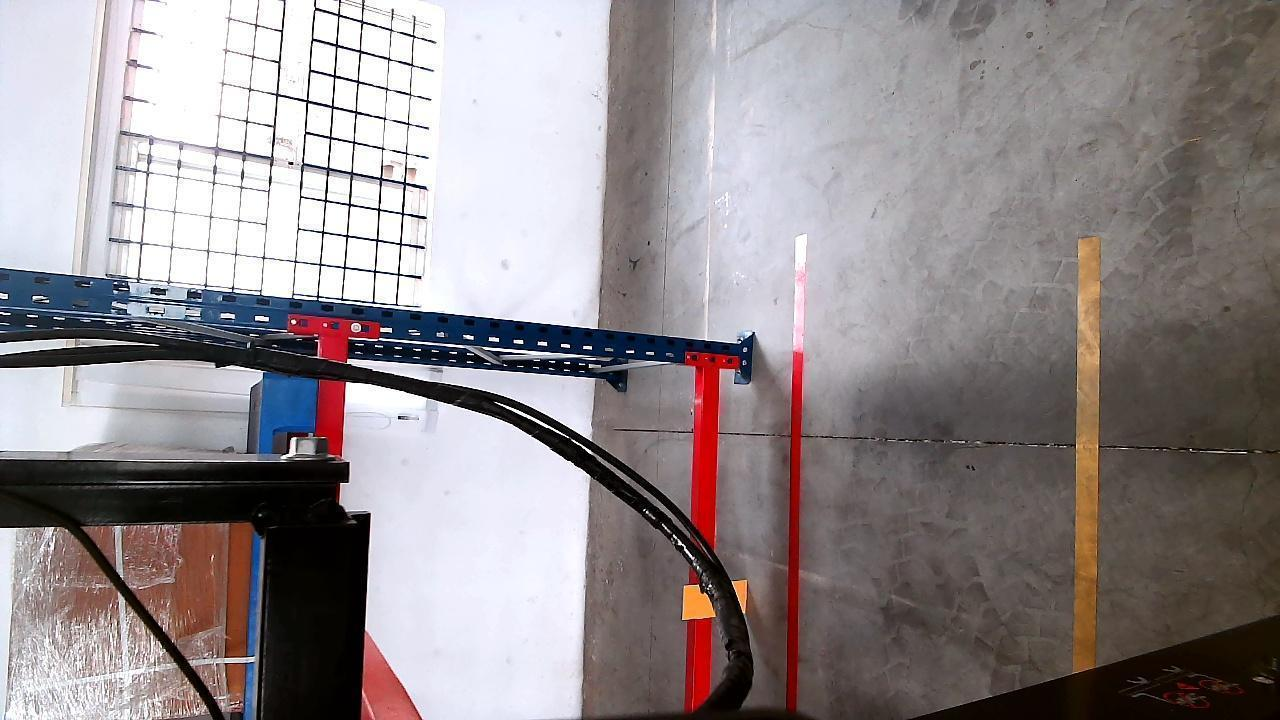red_line: (784, 273, 807, 718)
yellow_line: (1073, 227, 1103, 681)
